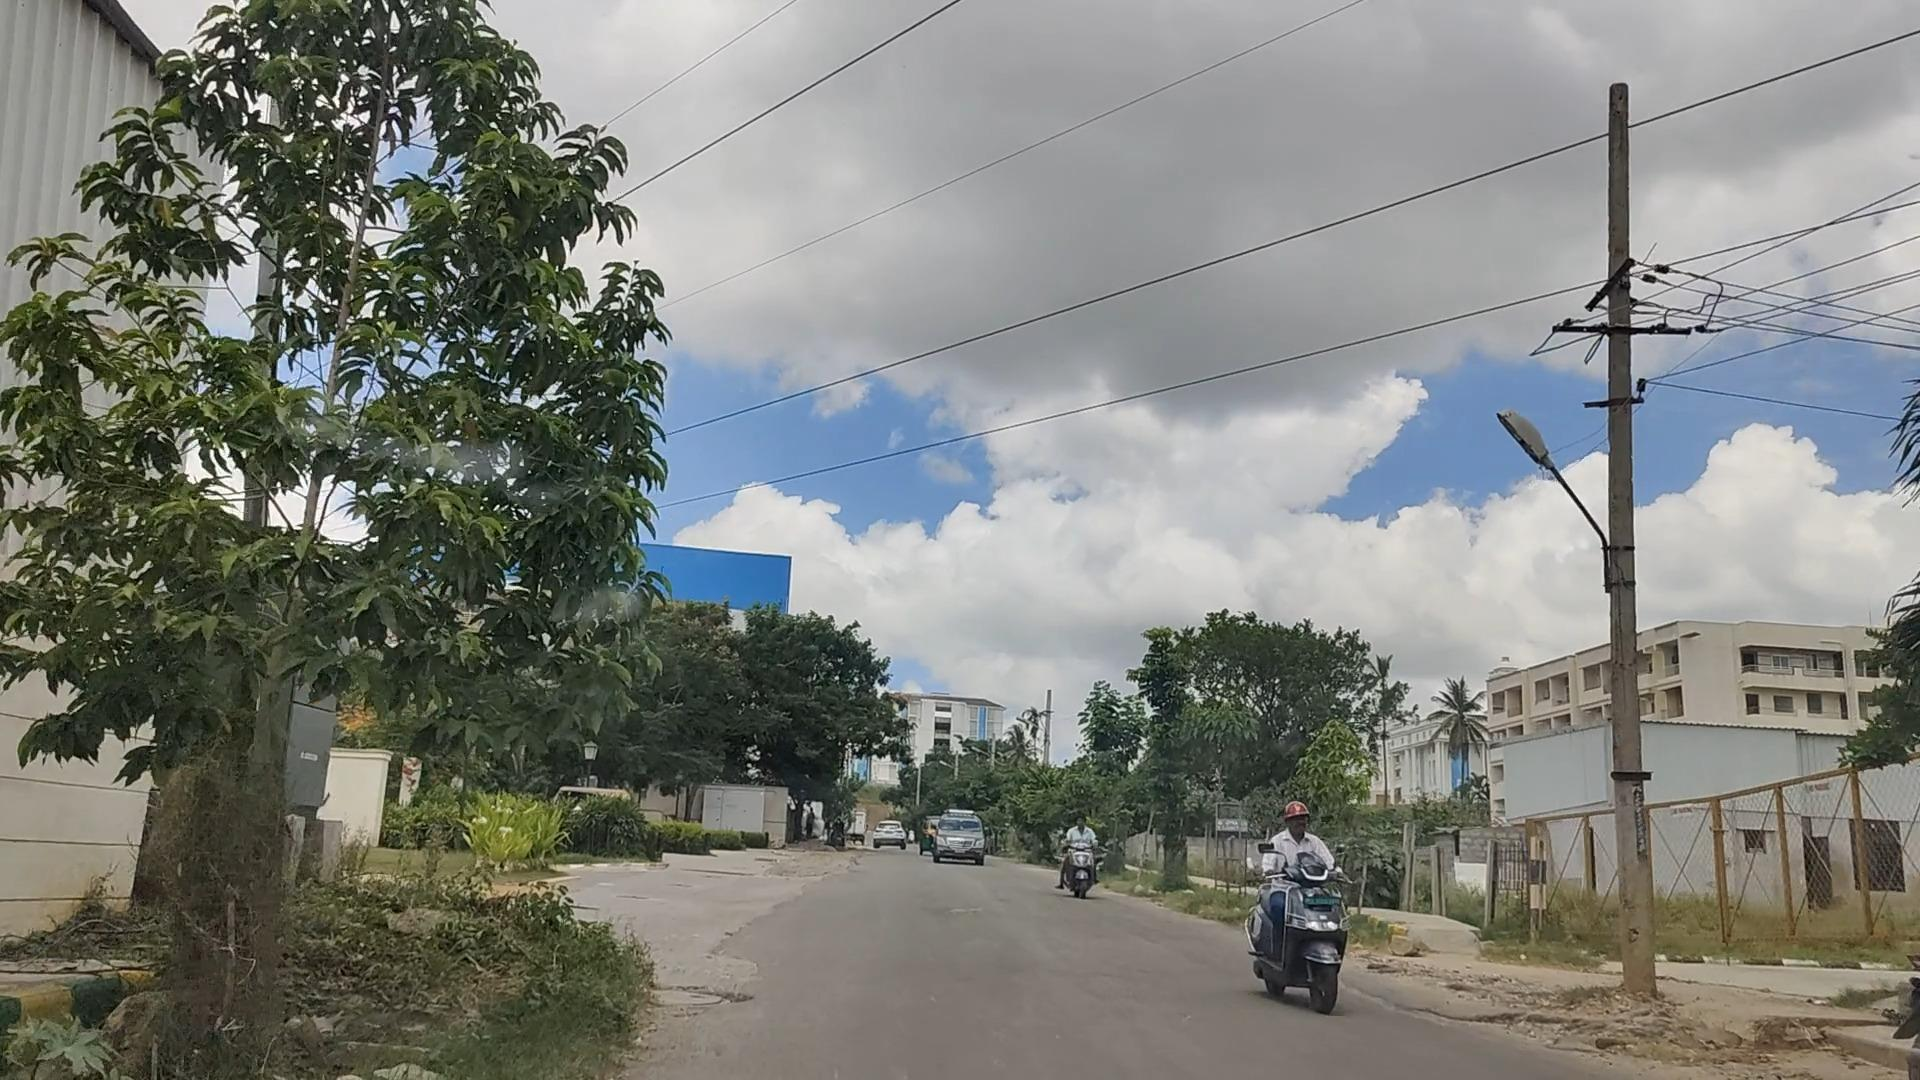RoadDamages: (658, 955, 872, 1072)
